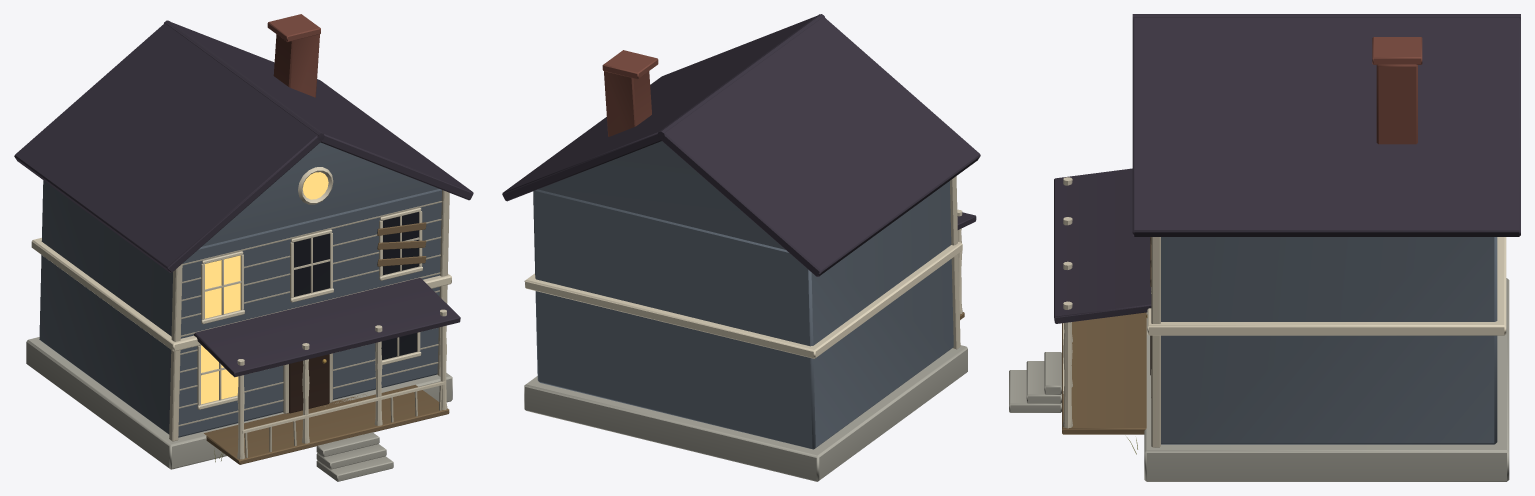
Rendered from env_house_a.glb.
3 renders of one model, left to right at view 1: azimuth 30°, elevation 25°; view 2: azimuth 150°, elevation 25°; view 3: azimuth 270°, elevation 25°, orthographic. The views are drawn at different scales.
Visible parts, largest first — view 1: env_house_a, bulb; view 2: env_house_a; view 3: env_house_a.
Boxes of the visible parts, bbox=[...] form: env_house_a: bbox=[14, 14, 473, 481]; bulb: bbox=[201, 172, 328, 404]; env_house_a: bbox=[502, 14, 980, 481]; env_house_a: bbox=[1009, 14, 1520, 481].
Bounding box in the file's own units: 7.58 × 7.5 × 8.7.
